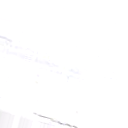crackTip: (24, 108, 81, 127)
